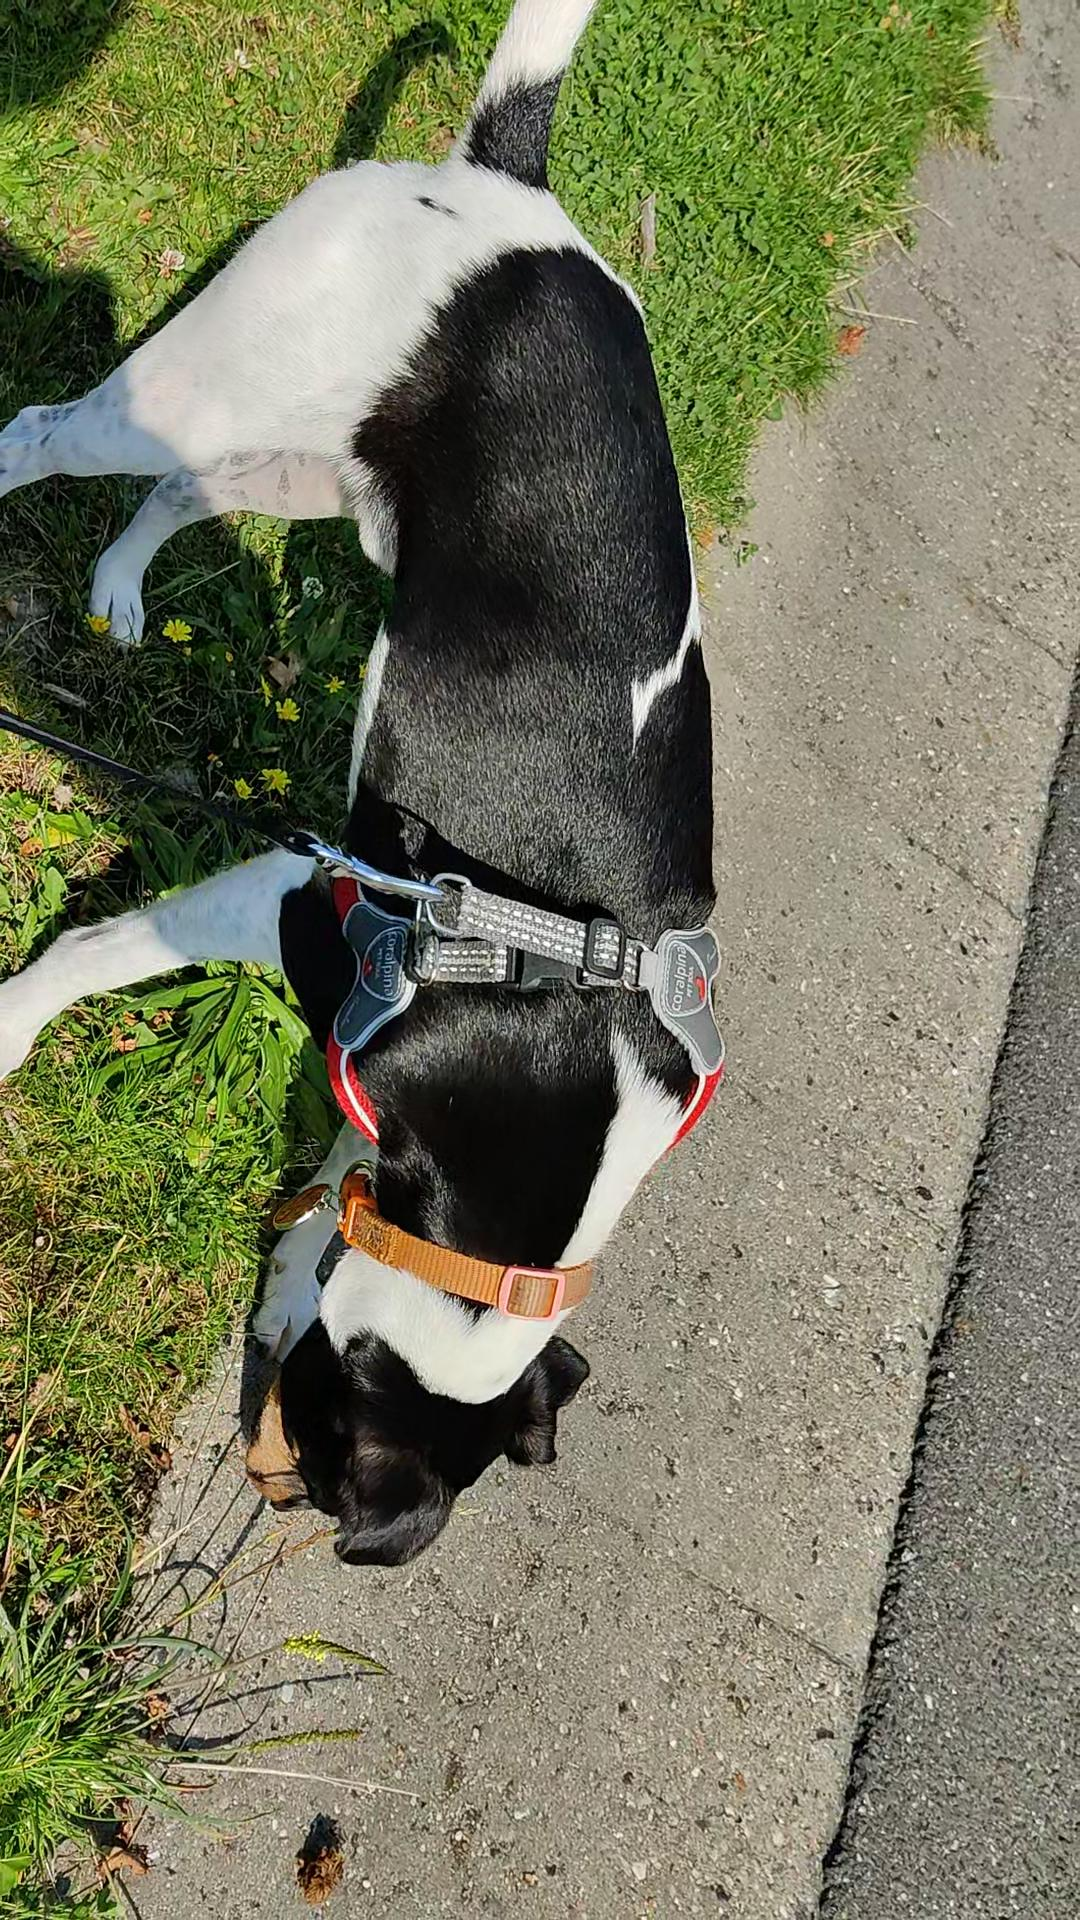Dog: (0, 0, 750, 1575)
